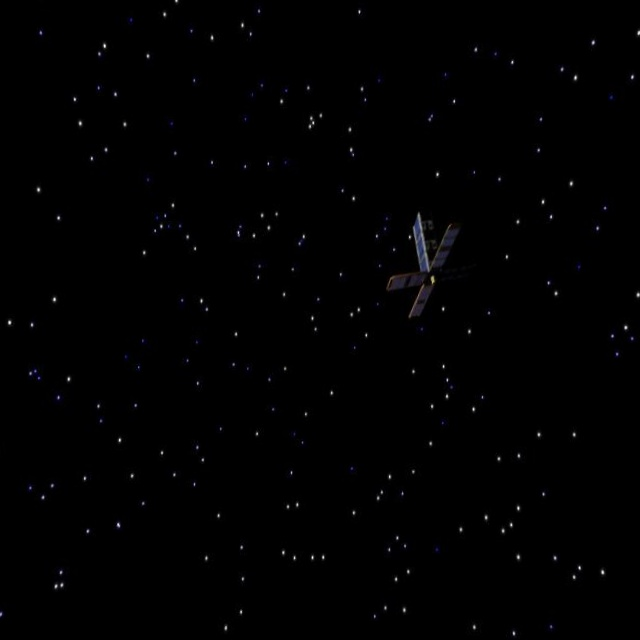medium_debris: (389, 197, 467, 326)
